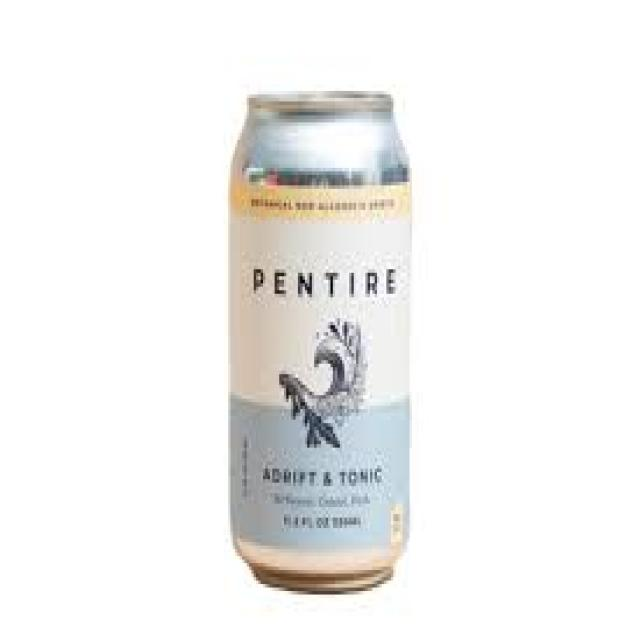Cans: (224, 80, 416, 594)
